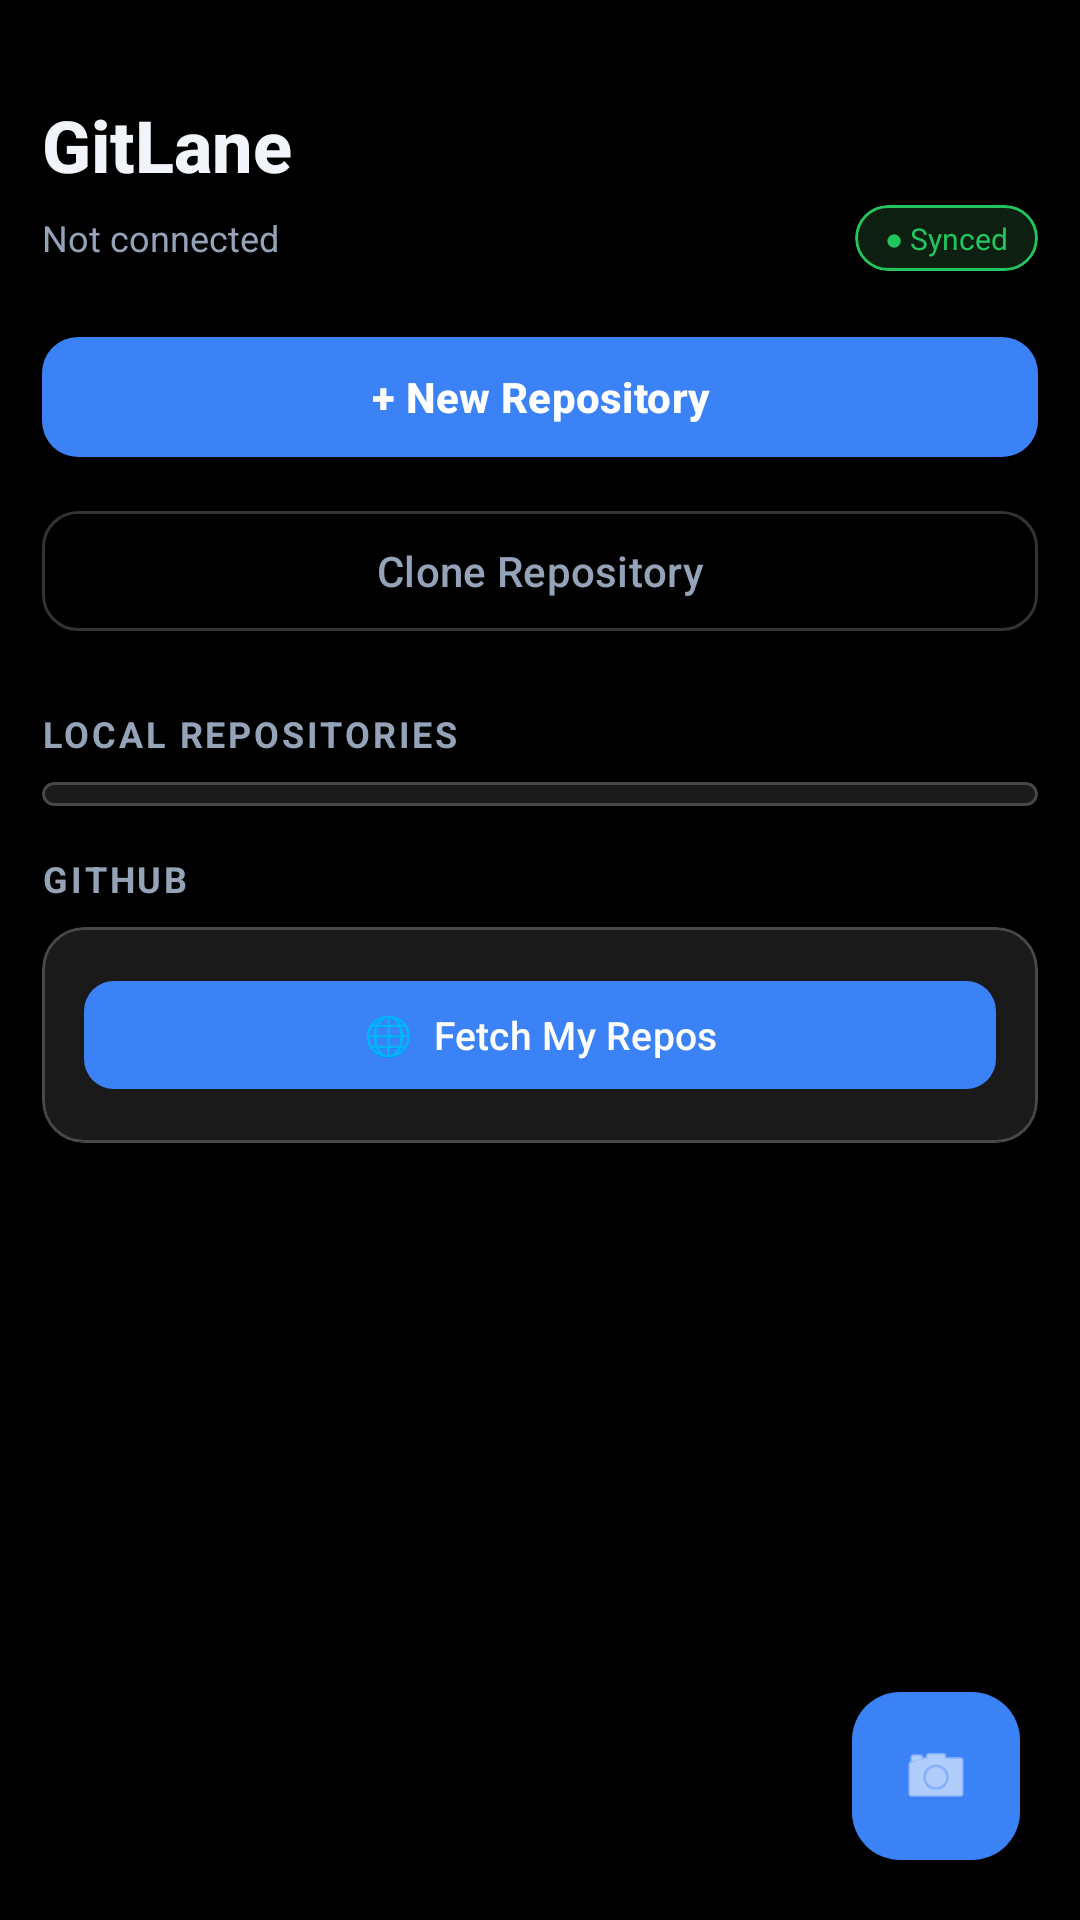

Icon bounding boxes for this 1080×1920 phone screenshot, format [left=x1, top=y1, right=x2, bottom=y2]:
Scan QR to import repo: [left=852, top=1692, right=1020, bottom=1860]
